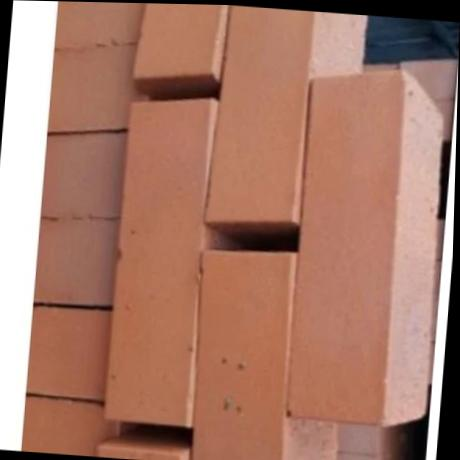brick: (284, 61, 408, 428), (101, 96, 213, 428), (200, 5, 314, 228), (185, 246, 299, 460), (47, 39, 131, 139), (25, 301, 111, 398), (36, 130, 123, 224), (128, 3, 221, 82), (31, 221, 115, 307), (19, 395, 101, 457), (94, 438, 187, 460)
